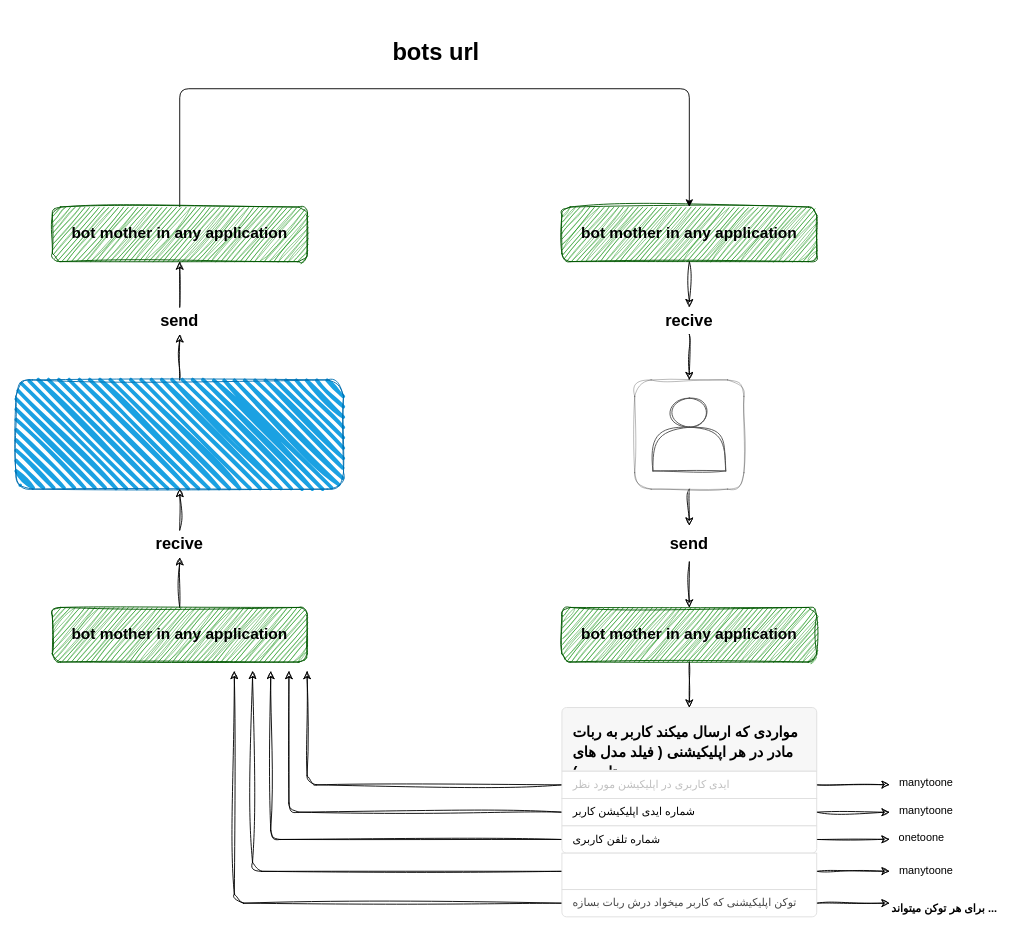
Image size: 1015x950. Some labels were removed from this diagram. Here are the shapes that lost their labels. From the top down, the box of each, then its label:
(15, 379, 344, 489): bot mother
(561, 852, 817, 890): اپلیکیشنی که که میخواد استفاده کنه ذخیره میشه ( تمام اداپتورها ساخته میشه براش )
